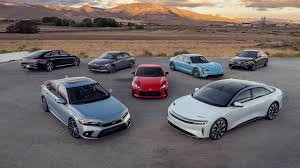car: (164, 76, 285, 141), (42, 76, 133, 143), (168, 51, 225, 80), (25, 47, 81, 72), (129, 65, 172, 96), (87, 51, 139, 74), (231, 48, 271, 70)
